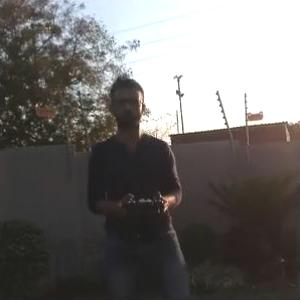follow: (84, 69, 195, 299)
